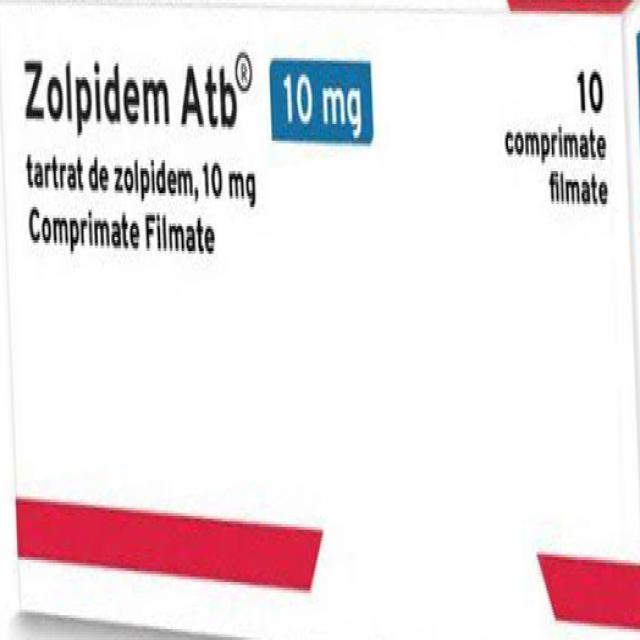drug-name: (20, 52, 238, 142)
